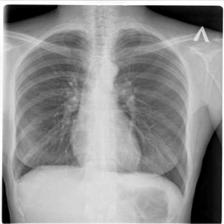tuberculosis: (12, 22, 194, 205)
